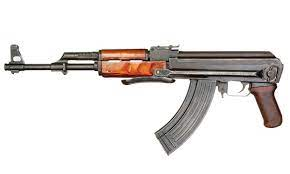gun: (4, 42, 284, 156)
